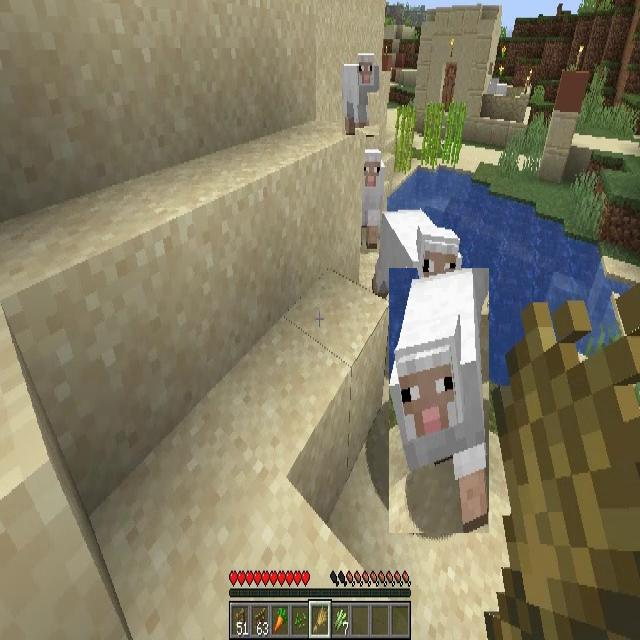sheep: (389, 268, 489, 533), (373, 208, 463, 316), (342, 52, 379, 135), (364, 146, 384, 255)
